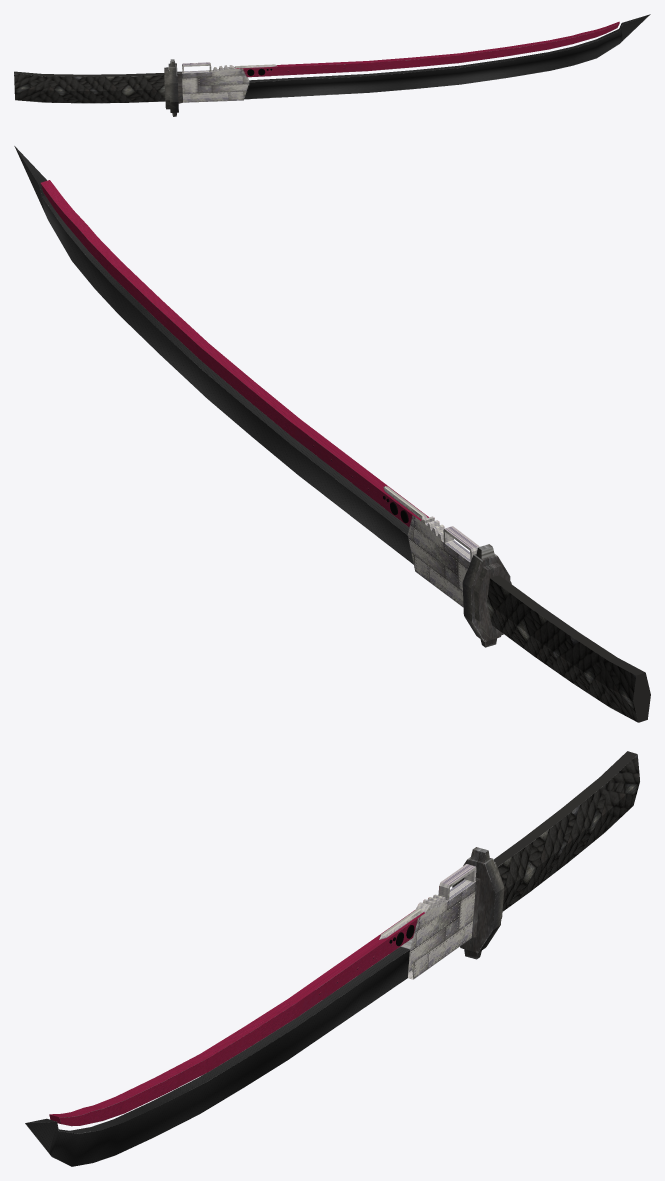
3 renders of one model, top to bottom at view 1: azimuth 30°, elevation 25°; view 2: azimuth 150°, elevation 25°; view 3: azimuth 270°, elevation 25°, orthographic. The views are drawn at different scales.
Parts seen in each view (by area): view 1: 3DSMeshMatrix; view 2: 3DSMeshMatrix; view 3: 3DSMeshMatrix.
Part boxes in pixels (x1,y1,x2,y2): 3DSMeshMatrix: [14, 14, 650, 116]; 3DSMeshMatrix: [14, 146, 650, 722]; 3DSMeshMatrix: [25, 751, 639, 1166].
Size of the model in its own units: 84.92 by 15.77 by 46.44.
Materials: 2 (1 with a texture image).
